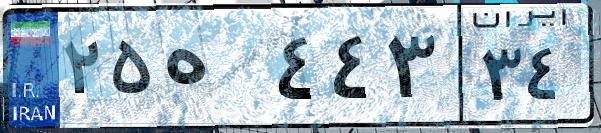2: (57, 26, 110, 100)
3: (385, 28, 445, 110), (475, 38, 525, 113)
4: (270, 28, 330, 110), (330, 28, 385, 110), (525, 38, 570, 115)
5: (110, 28, 158, 98)
ه: (158, 20, 270, 120)
